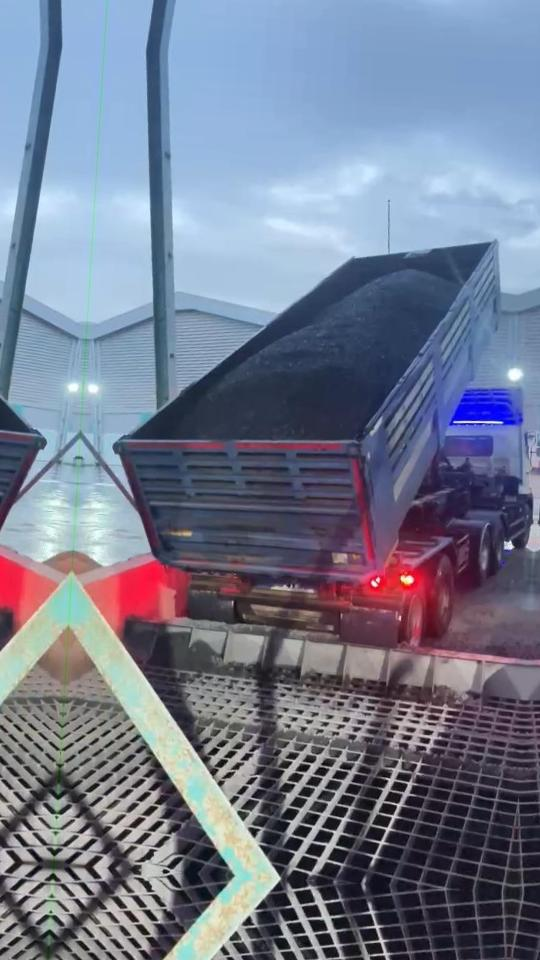gravel: (172, 269, 459, 440)
